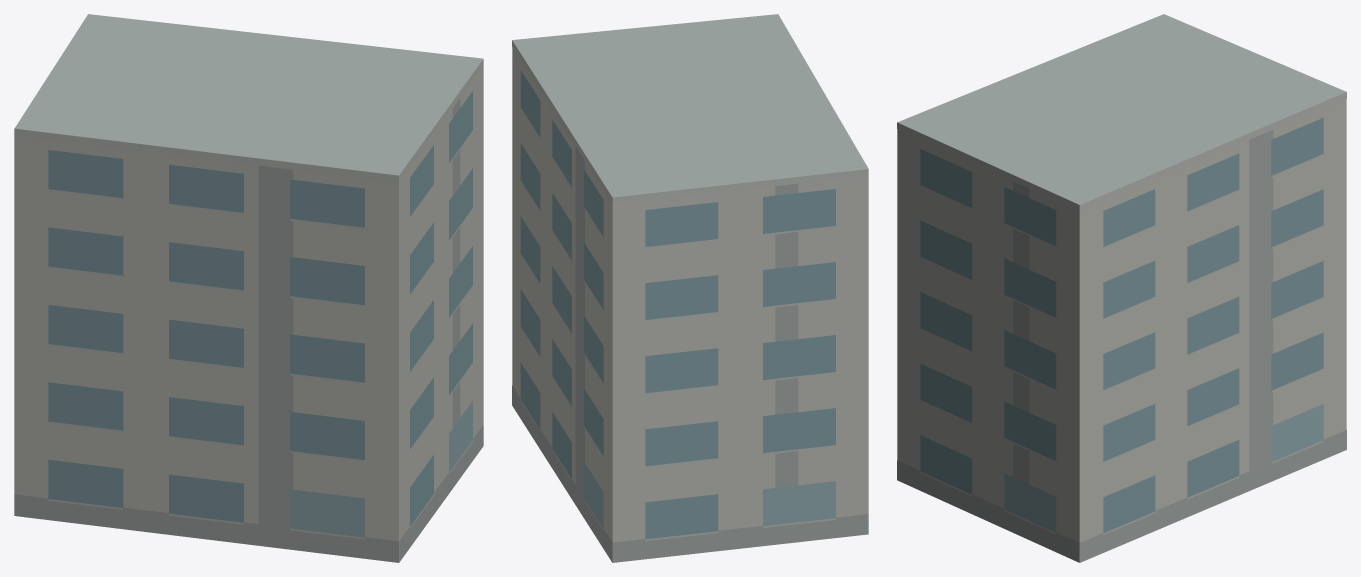
The model's file is survey-upis-32884481.glb.
The picture shows the model from 3 angles, left to right: view 1: azimuth 30°, elevation 25°; view 2: azimuth 150°, elevation 25°; view 3: azimuth 270°, elevation 25°; orthographic projection. The views are drawn at different scales.
Parts seen in each view (by area): view 1: survey-upis-32884481.tmp; view 2: survey-upis-32884481.tmp; view 3: survey-upis-32884481.tmp.
Boxes of the visible parts, bbox=[...] form: survey-upis-32884481.tmp: bbox=[14, 14, 483, 562]; survey-upis-32884481.tmp: bbox=[512, 14, 868, 562]; survey-upis-32884481.tmp: bbox=[897, 14, 1346, 562].
Size of the model in its own units: 15.12 by 13.2 by 15.04.
